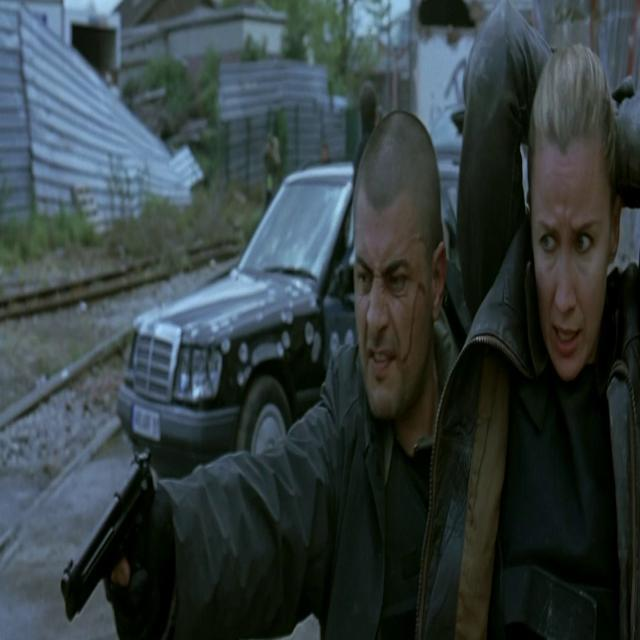gun-knife-thesis - v11 Yolov5 augmented: (60, 441, 176, 640)
